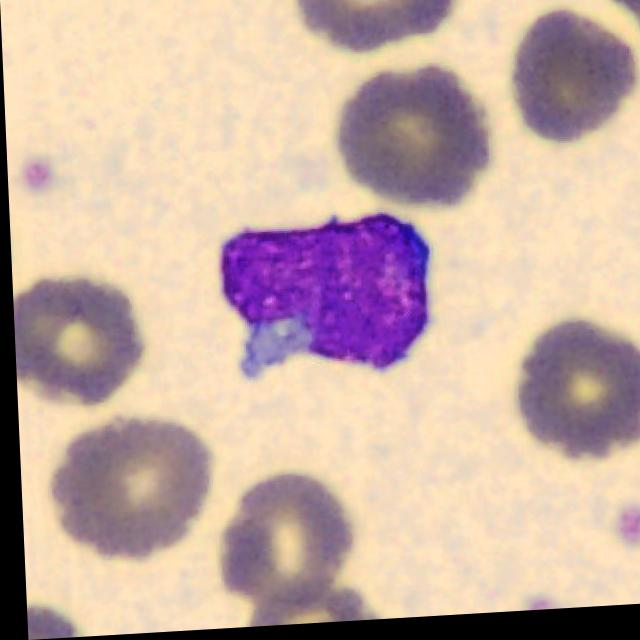Linfocito: (217, 216, 429, 382)
